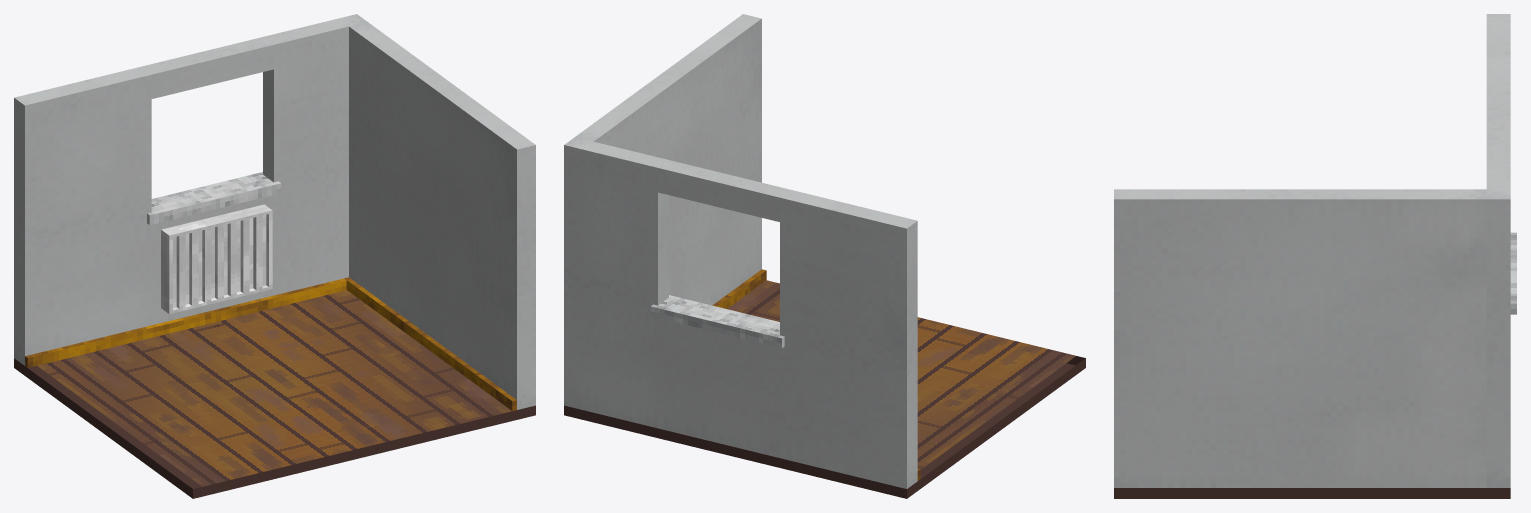
Rendered from room_shell.glb.
3 views of the same model, side by side, from view 1: azimuth 30°, elevation 25°; view 2: azimuth 150°, elevation 25°; view 3: azimuth 270°, elevation 25° (orthographic). The views are drawn at different scales.
Parts seen in each view (by area): view 1: cube (×4), floor, radiator, cuboid; view 2: cube (×3), floor, cuboid; view 3: cube (×2), floor, cuboid.
Boxes of the visible parts, x1,y1,x2,y2 form: cube (×4): (14, 14, 535, 410); floor: (14, 290, 535, 498); radiator: (161, 204, 272, 314); cuboid: (147, 172, 281, 224); cube (×3): (564, 14, 917, 488); floor: (564, 280, 1085, 498); cuboid: (650, 295, 784, 347); cube (×2): (1114, 14, 1510, 487); floor: (1114, 488, 1510, 498); cuboid: (1510, 232, 1516, 314).
Bounding box in the file's own units: 4.56 × 3.44 × 4.19.
Materials: 4 (4 with a texture image).
